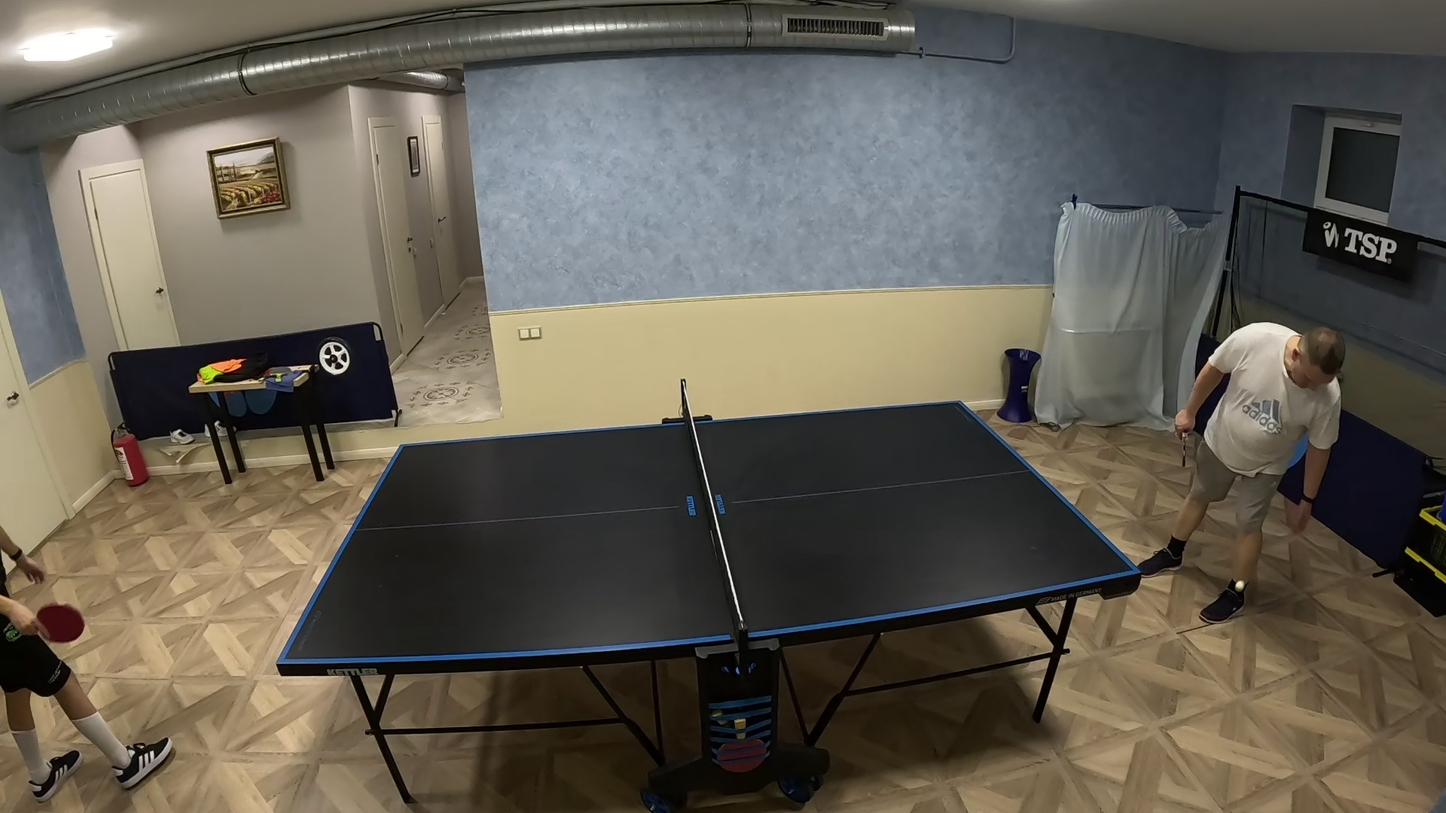Ball: (1235, 581, 1244, 590)
